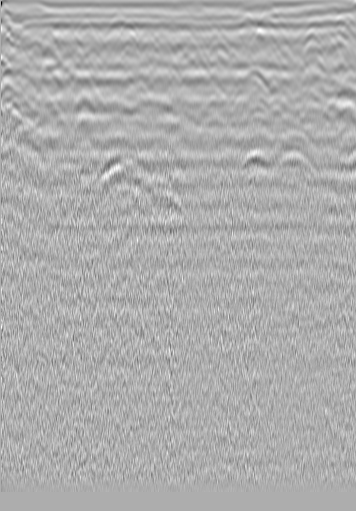가스: (235, 148, 275, 180)
상수: (22, 37, 42, 57)
오수: (299, 32, 319, 52)
우수: (139, 36, 159, 56)
